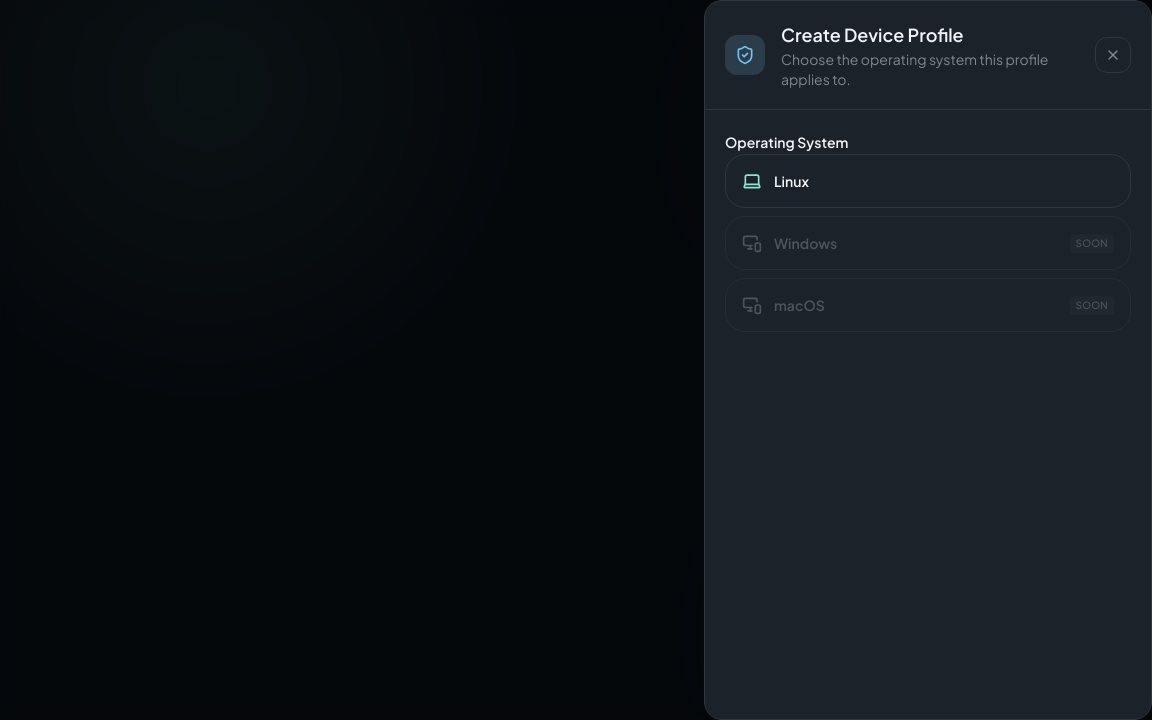
Scenario: CreateDeviceProfileModal › disables Create until a profile name is entered
Click the button "Linux" at (791, 181), box [725, 154, 1131, 208]
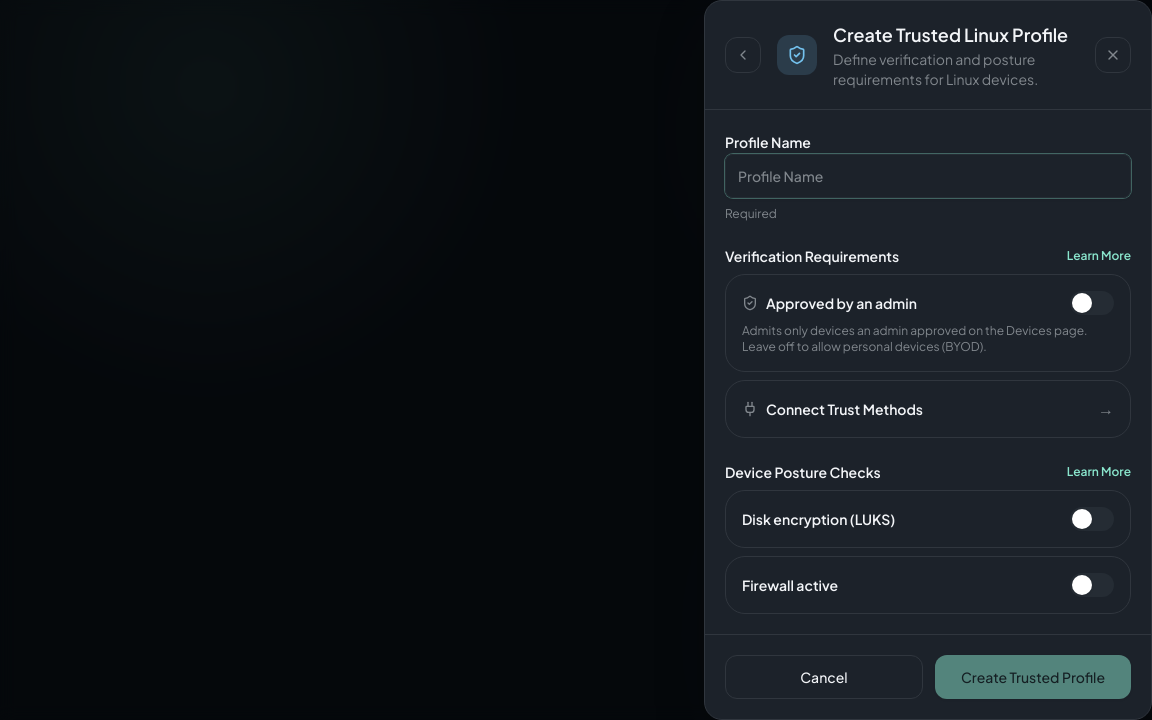
Expected: the button "Create Trusted Profile" is disabled, [935, 655, 1131, 699]
Type "Corporate Laptops" into the field with placeholder "Profile Name" at (928, 176), box [725, 154, 1131, 198]
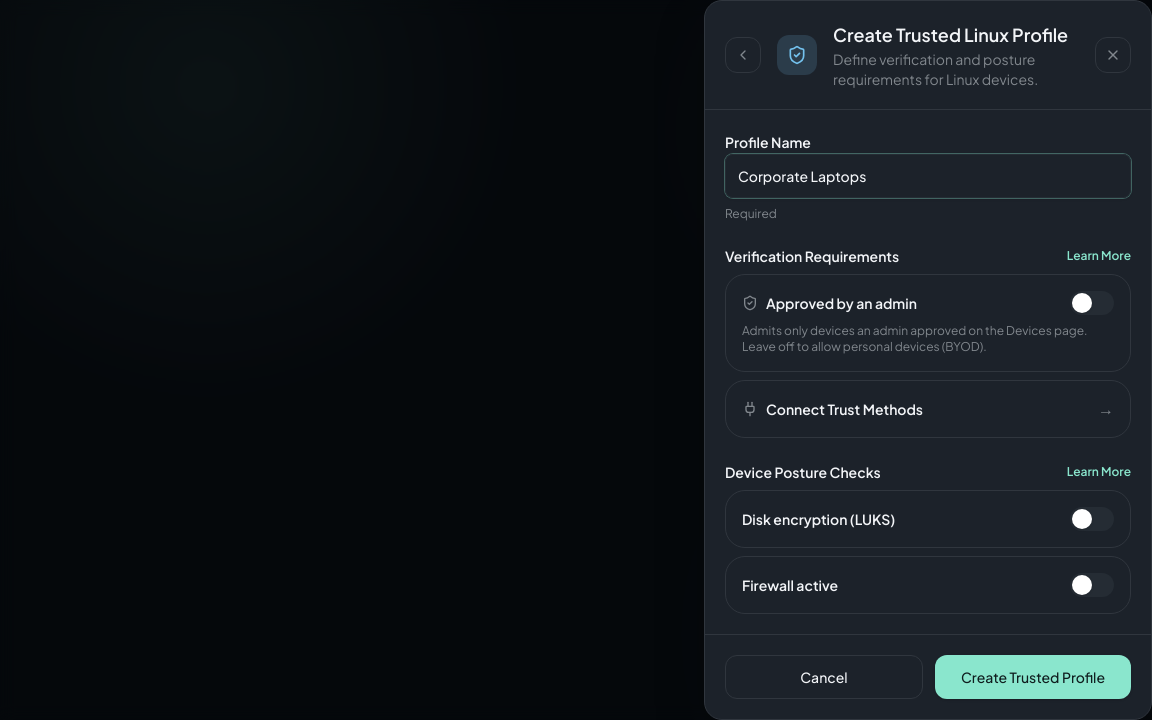
Expected: the button "Create Trusted Profile" is enabled, [935, 655, 1131, 699]
